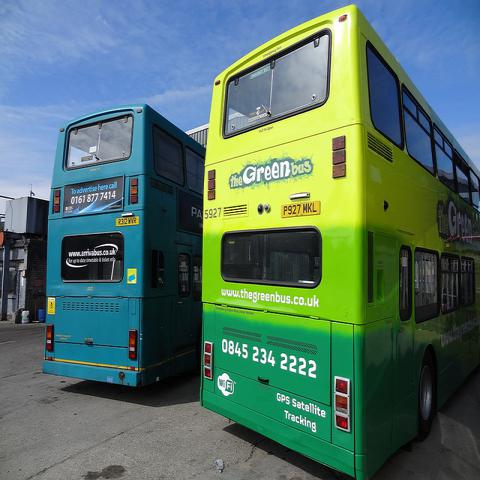bus: (198, 1, 479, 475), (41, 103, 204, 394)
